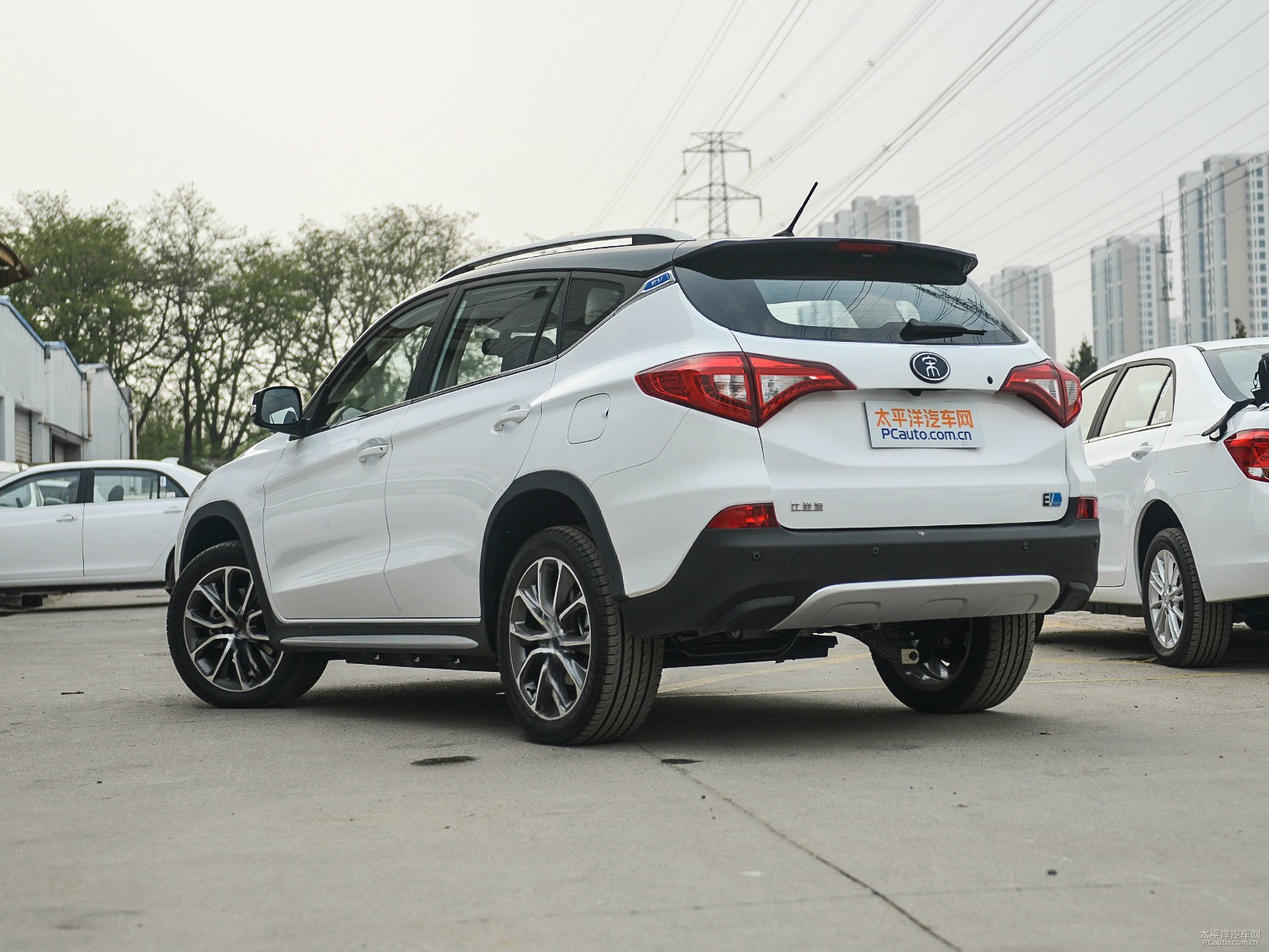BYD Song: (913, 355, 949, 379)
